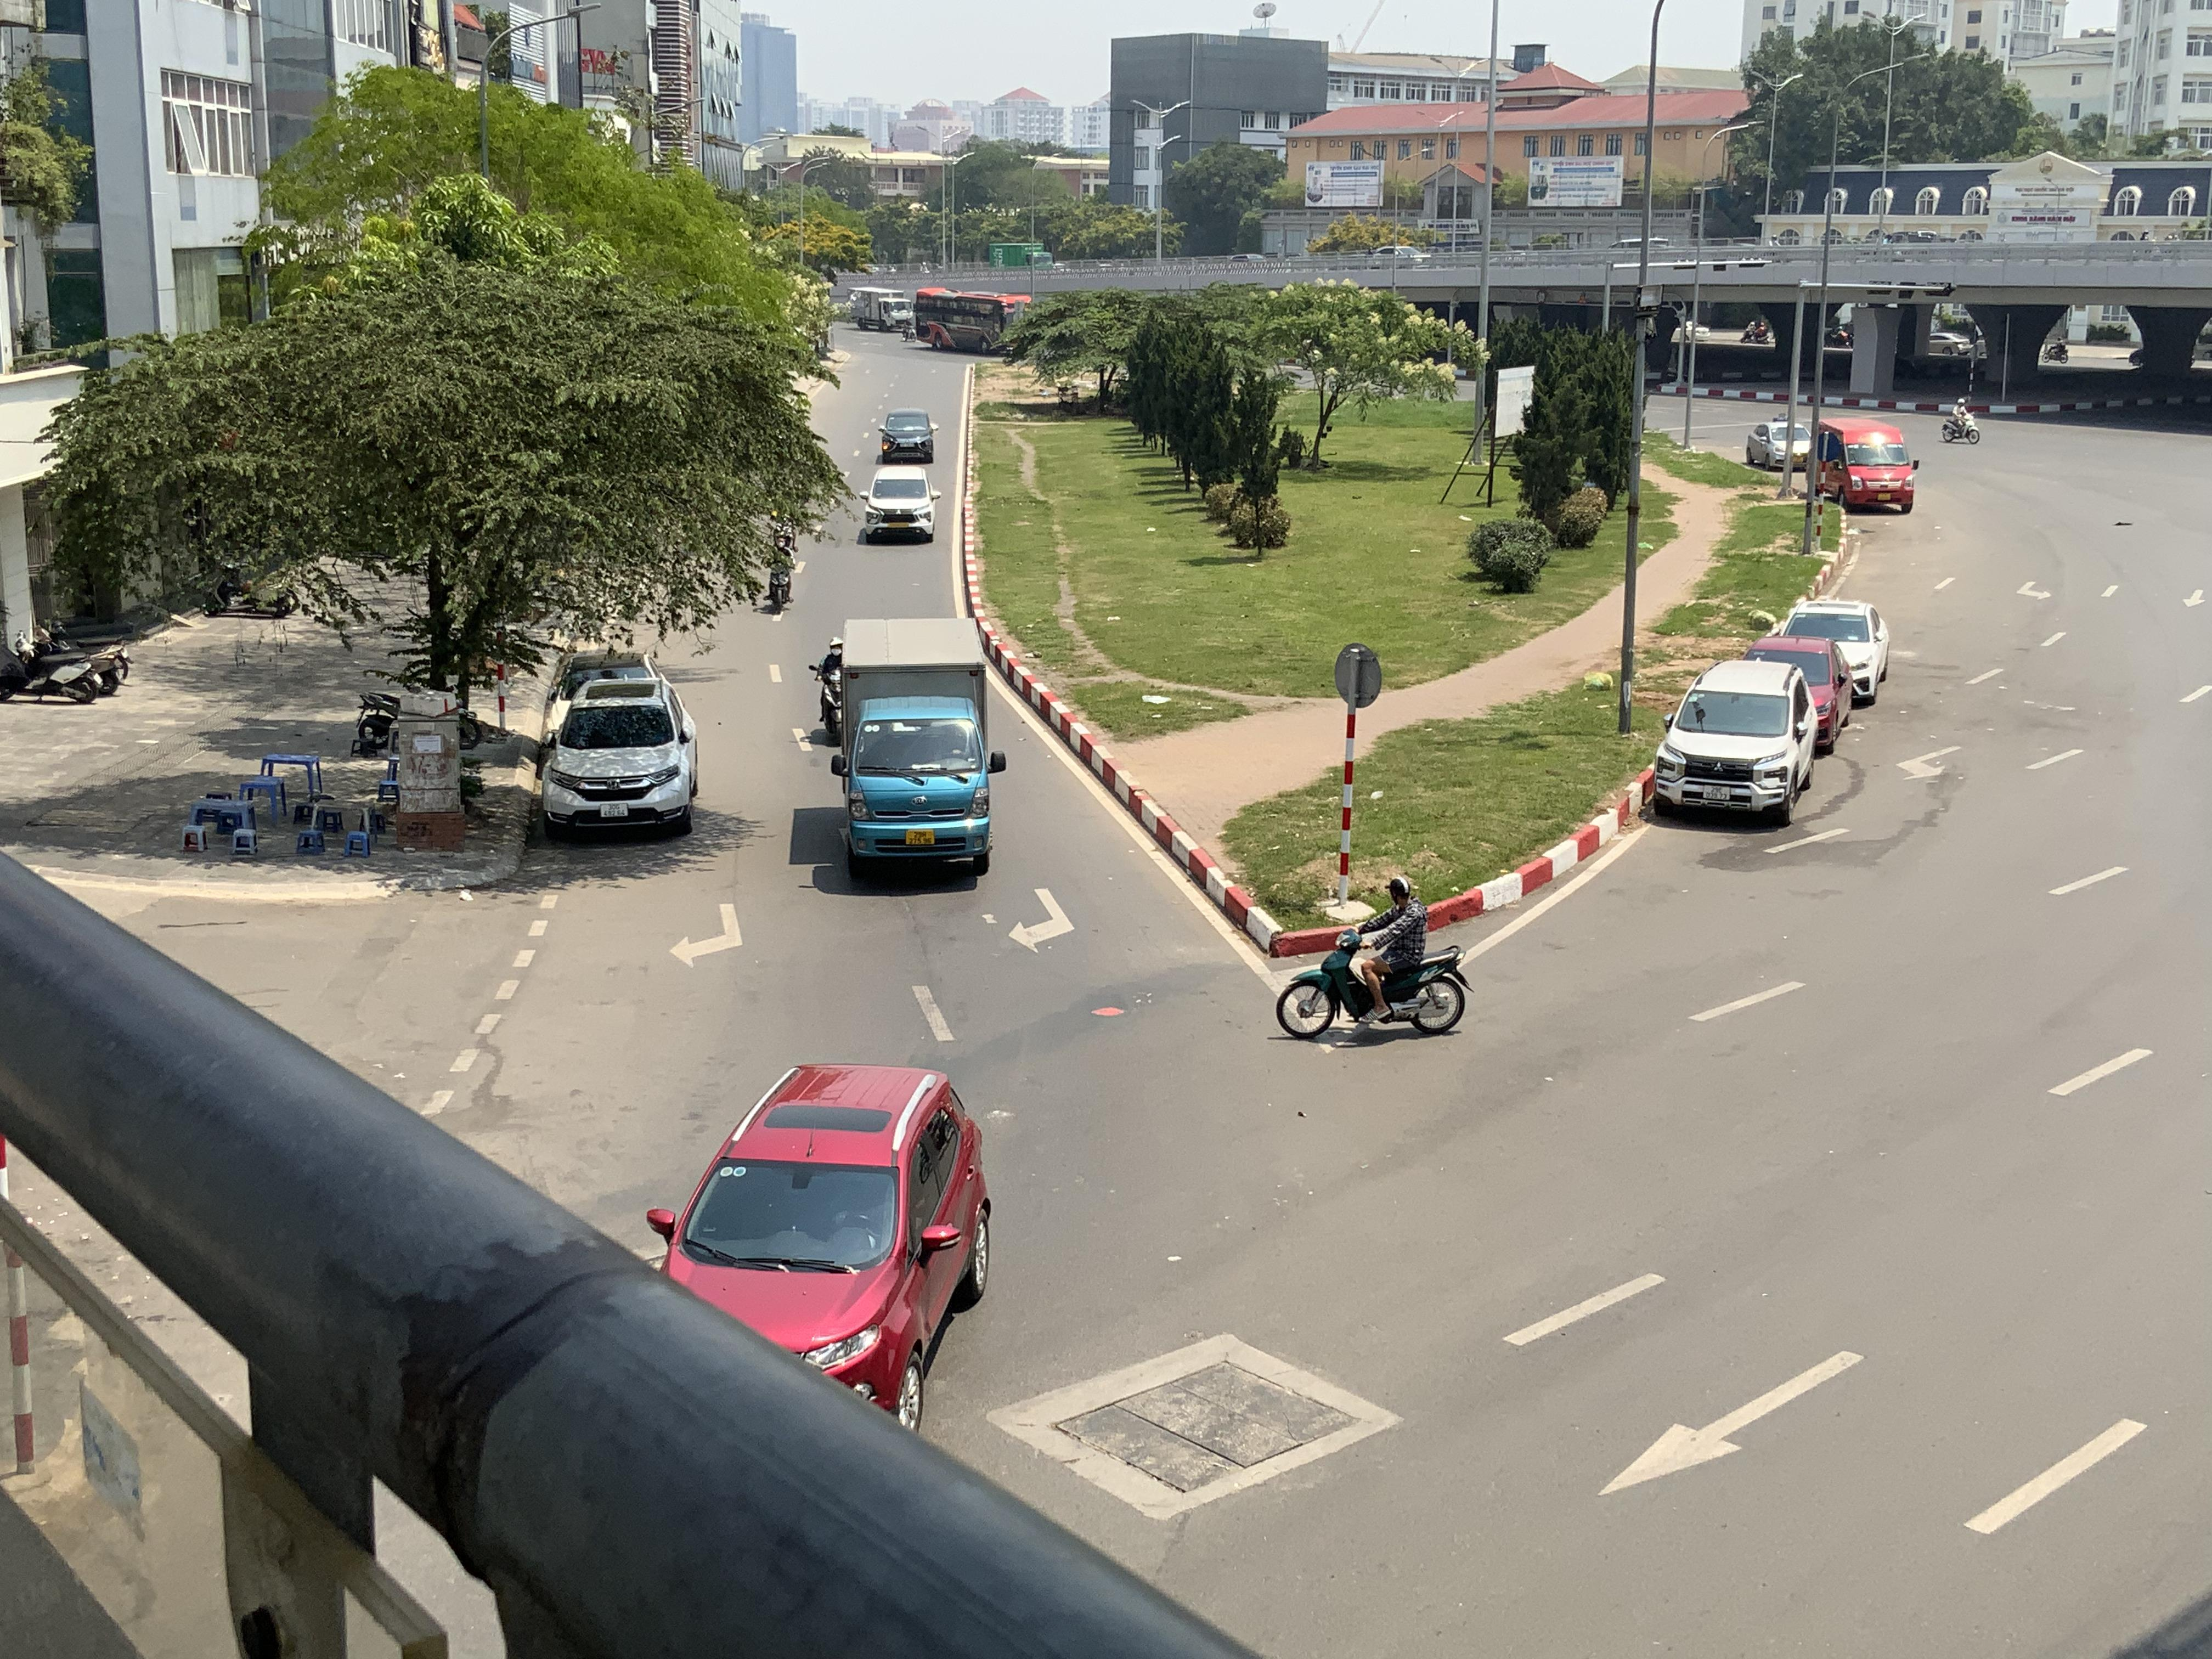BSV: (1702, 784, 1730, 802), (906, 830, 935, 845), (601, 803, 629, 817)
bus: (1808, 411, 1919, 511), (913, 289, 1035, 354)
car: (644, 1061, 995, 1434), (536, 648, 700, 835), (1648, 657, 1820, 826), (1740, 633, 1853, 755), (1771, 598, 1890, 704), (859, 464, 937, 542), (1747, 418, 1813, 471), (876, 406, 937, 462)
motorbike: (1275, 875, 1472, 1040), (0, 619, 106, 706), (810, 633, 846, 741), (766, 533, 799, 615), (1939, 394, 1982, 443)
truck: (824, 615, 1007, 880), (846, 286, 913, 331), (986, 240, 1055, 270)
